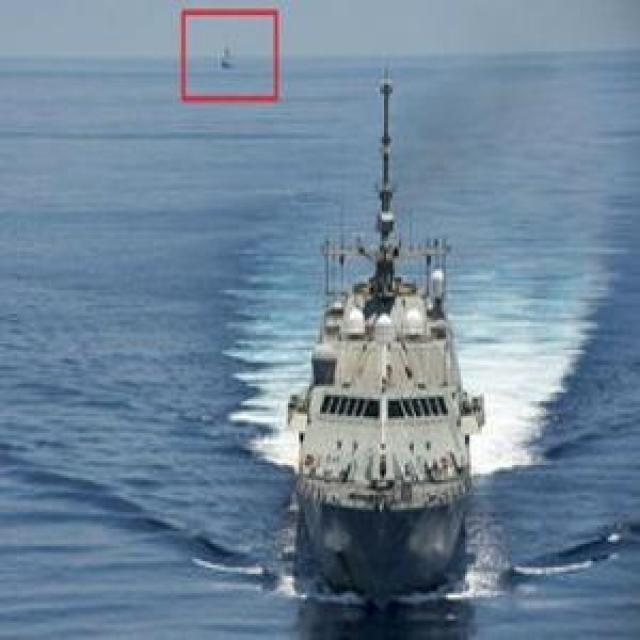navalvessels: (270, 63, 487, 601)
